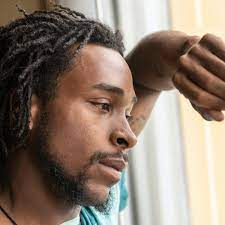s.black: (51, 107, 99, 155)
